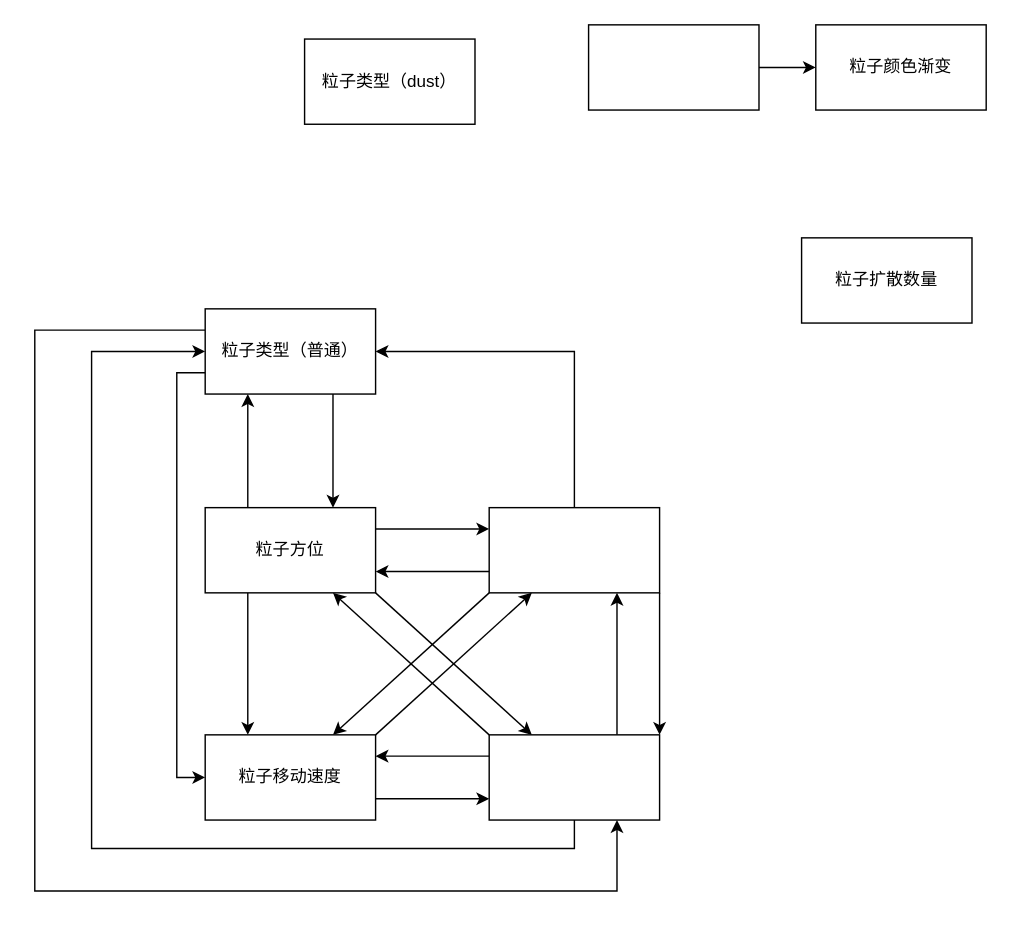
This 1011x927 diagram has some shape labels left out. The shapes that lost their labels are listed below. From the top down, each one's box as (x1, y1, x2, y2) in pixels, then its label:
(587, 23, 759, 110): 粒子类型（Dust_trans)
(488, 506, 660, 593): 粒子颜色
(488, 733, 660, 820): 粒子移动方向与距离
